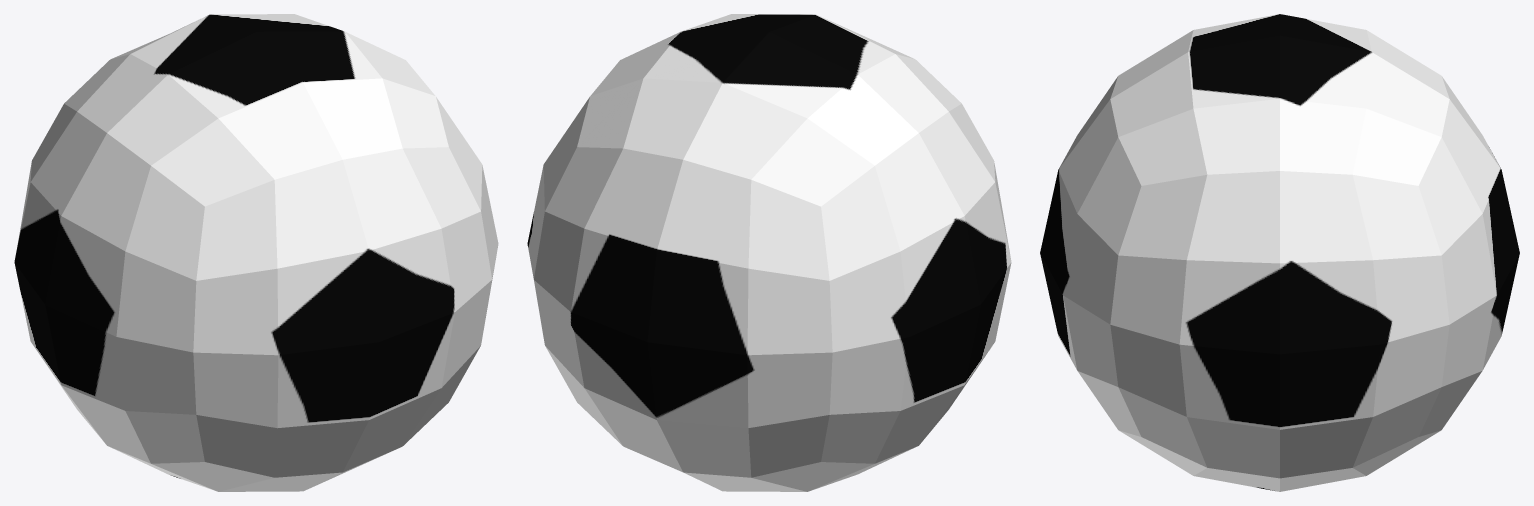
File: Bola.fbx
3 renders of one model, left to right at view 1: azimuth 30°, elevation 25°; view 2: azimuth 150°, elevation 25°; view 3: azimuth 270°, elevation 25°, orthographic.
Parts seen in each view (by area): view 1: Cube; view 2: Cube; view 3: Cube.
Boxes of the visible parts, box(x1,y1,x2,y2) form: Cube: box(14, 14, 498, 491); Cube: box(527, 14, 1011, 491); Cube: box(1040, 14, 1519, 491).
Bounding box in the file's own units: 346 × 346 × 346.
